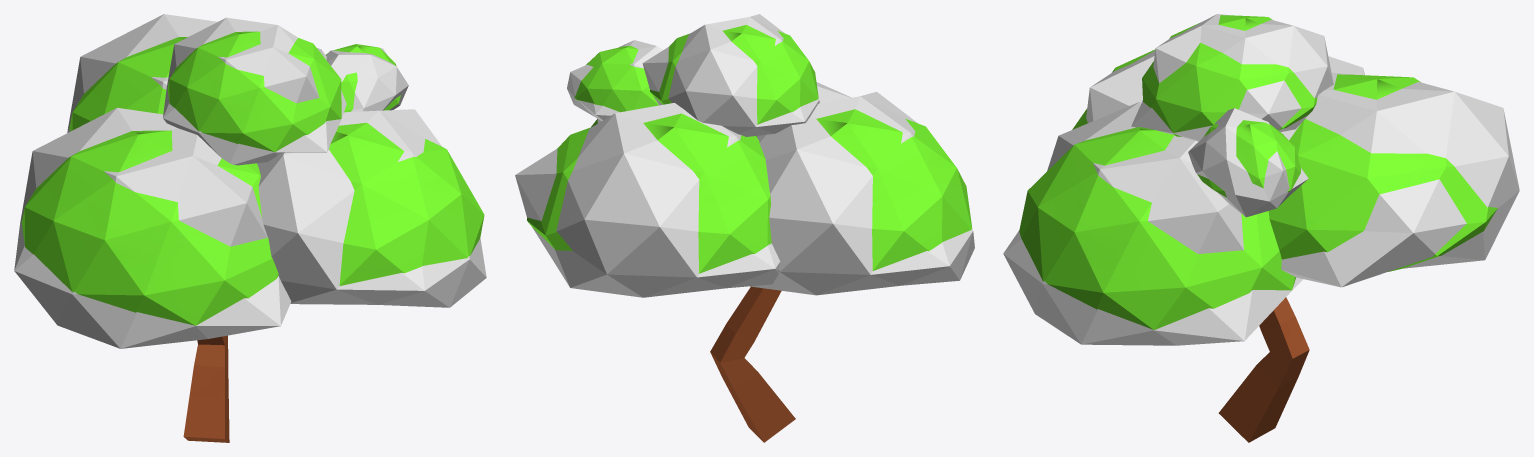
Rendered from Tree.fbx.
The picture shows the model from 3 angles, left to right: view 1: azimuth 30°, elevation 25°; view 2: azimuth 150°, elevation 25°; view 3: azimuth 270°, elevation 25°; orthographic projection. The views are drawn at different scales.
Parts seen in each view (by area): view 1: TreeBone, Leaf01, Leaf02, Leaf05, Leaf04, Leaf03; view 2: TreeBone, Leaf04, Leaf01, Leaf05, Leaf03; view 3: TreeBone, Leaf04, Leaf02, Leaf05, Leaf03, Leaf01.
Boxes of the visible parts, x1,y1,x2,y2 form: TreeBone: (21,31,484,442); Leaf01: (14,107,291,348); Leaf02: (257,109,486,307); Leaf05: (163,17,346,165); Leaf04: (67,14,217,132); Leaf03: (326,48,408,111); TreeBone: (527,25,971,442); Leaf04: (515,103,780,297); Leaf01: (750,91,974,295); Leaf05: (642,14,819,136); Leaf03: (567,40,663,120); TreeBone: (1019,15,1497,442); Leaf04: (1281,72,1519,287); Leaf02: (1003,102,1303,345); Leaf05: (1131,14,1333,141); Leaf03: (1188,108,1308,217); Leaf01: (1086,50,1364,123).
Bounding box in the file's own units: 381 × 362 × 395.
